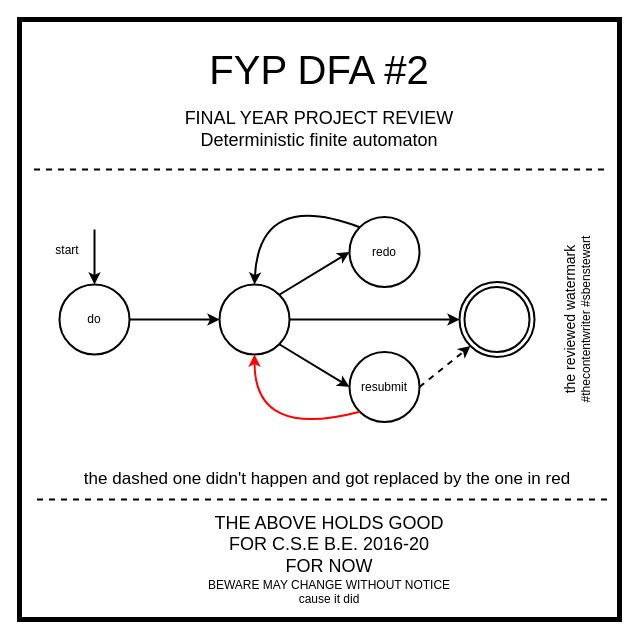
The diagram is 639 pixels wide and 639 high, and some of its shapes have lost their labels. The shapes that lost their labels are listed below. From the top down, each one's centre as x and y in pixels, then its label:
(x=254, y=319): panel
(x=496, y=319): done
